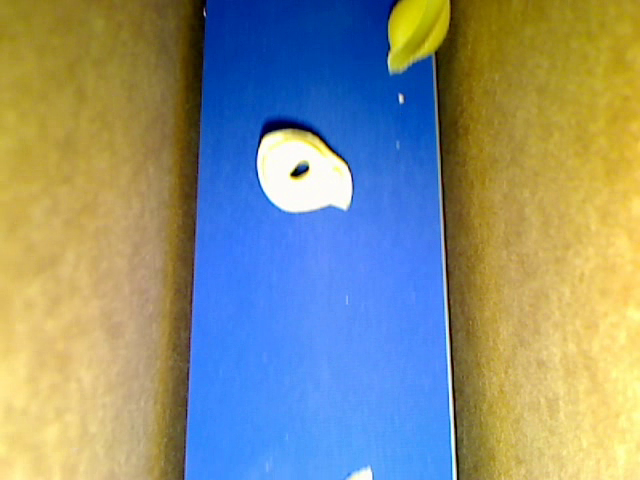shell: (387, 1, 449, 76)
tortellini: (255, 128, 354, 215)
